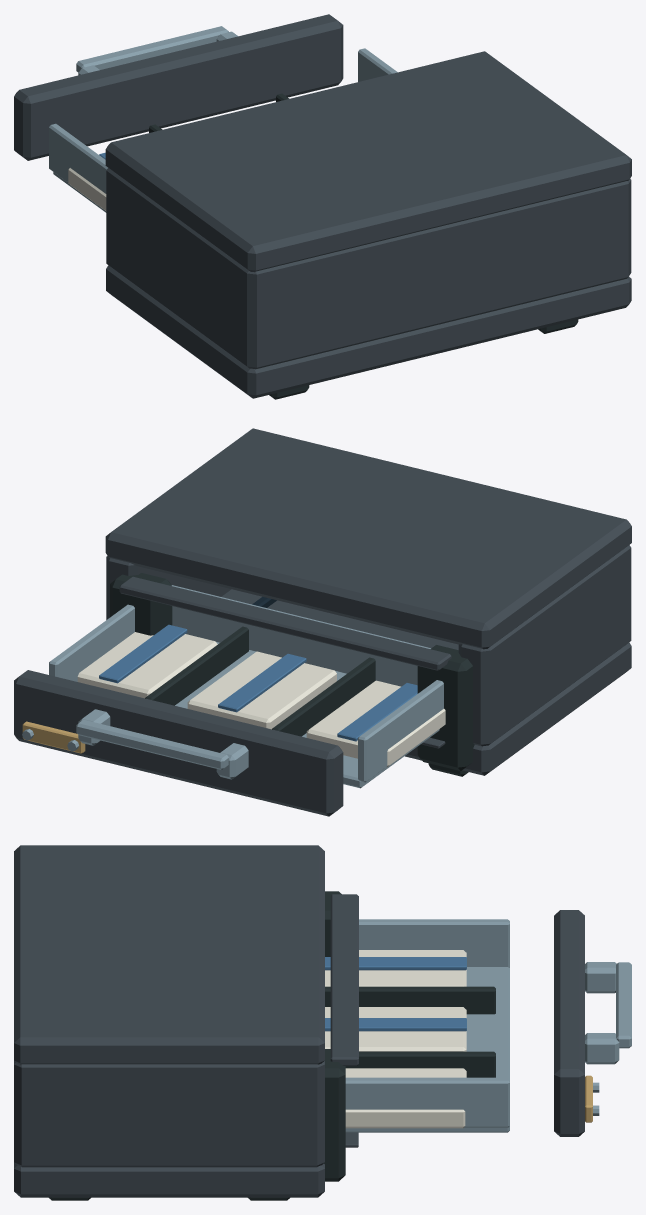
File: currency_transport_case_opened.glb
3 views of the same model, one above another, from view 1: azimuth 30°, elevation 25°; view 2: azimuth 150°, elevation 25°; view 3: azimuth 270°, elevation 25° (orthographic). The views are drawn at different scales.
Visible parts, largest first — view 1: body_roof, body_back_wall, moving_drawer_face, body_side_wall (×2), body_floor, moving_tray_side (×2), moving_pull_grip, moving_banknote_stack; view 2: body_roof, moving_drawer_face, body_side_wall (×2), moving_banknote_stack (×3), body_floor, fixed_upper_fascia, fixed_armored_corner (×2), moving_tray_side (×2), moving_tray_back, moving_tray_divider (×2), moving_banknote_band (×3), moving_pull_grip (+3 smaller); view 3: body_roof, body_side_wall, moving_tray_side (×2), moving_banknote_stack (×3), body_floor, moving_drawer_face, moving_tray_divider (×2), fixed_upper_fascia, moving_tray_floor, moving_banknote_band (×2), fixed_armored_corner, moving_pull_mount (×2) (+2 smaller).
Part boxes in pixels (left/top/right/bottom): body_roof: left=105, top=51, right=631, bottom=272; body_back_wall: left=236, top=182, right=628, bottom=368; moving_drawer_face: left=14, top=14, right=343, bottom=160; body_side_wall (×2): left=106, top=168, right=631, bottom=369; body_floor: left=106, top=265, right=631, bottom=398; moving_tray_side (×2): left=49, top=48, right=397, bottom=193; moving_pull_grip: left=76, top=26, right=228, bottom=72; moving_banknote_stack: left=68, top=168, right=106, bottom=210; body_roof: left=105, top=428, right=631, bottom=649; moving_drawer_face: left=14, top=670, right=343, bottom=816; body_side_wall (×2): left=106, top=545, right=631, bottom=746; moving_banknote_stack (×3): left=77, top=632, right=445, bottom=767; body_floor: left=221, top=589, right=631, bottom=775; fixed_upper_fascia: left=119, top=576, right=451, bottom=670; fixed_armored_corner (×2): left=110, top=573, right=474, bottom=770; moving_tray_side (×2): left=49, top=604, right=443, bottom=782; moving_tray_back: left=171, top=585, right=430, bottom=686; moving_tray_divider (×2): left=145, top=626, right=375, bottom=736; moving_banknote_band (×3): left=99, top=624, right=417, bottom=741; moving_pull_grip: left=76, top=719, right=228, bottom=769; body_roof: left=14, top=845, right=324, bottom=1064; body_side_wall: left=14, top=1061, right=324, bottom=1167; moving_tray_side (×2): left=345, top=919, right=509, bottom=1127; moving_banknote_stack (×3): left=325, top=950, right=466, bottom=1128; body_floor: left=14, top=1162, right=324, bottom=1197; moving_drawer_face: left=554, top=910, right=584, bottom=1136; moving_tray_divider (×2): left=325, top=986, right=495, bottom=1077; fixed_upper_fascia: left=330, top=894, right=358, bottom=1065; moving_tray_floor: left=345, top=967, right=509, bottom=1132; moving_banknote_band (×2): left=325, top=957, right=466, bottom=1031; fixed_armored_corner: left=324, top=1049, right=345, bottom=1181; moving_pull_mount (×2): left=585, top=962, right=619, bottom=1064.
Bounding box in the file's own units: 1.02 × 0.44 × 1.35.
